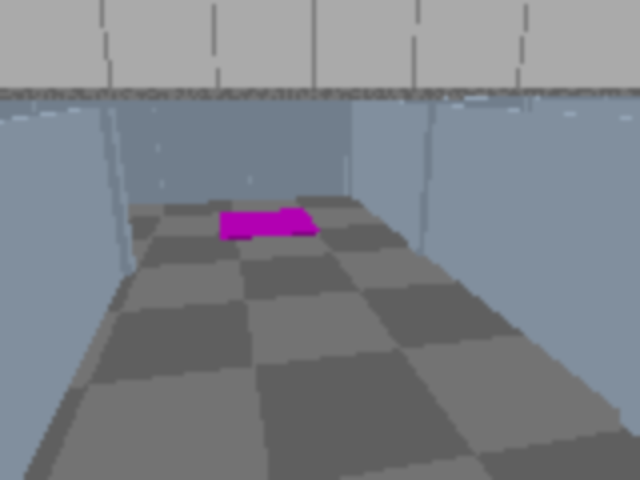goal_zone: (221, 209, 321, 240)
